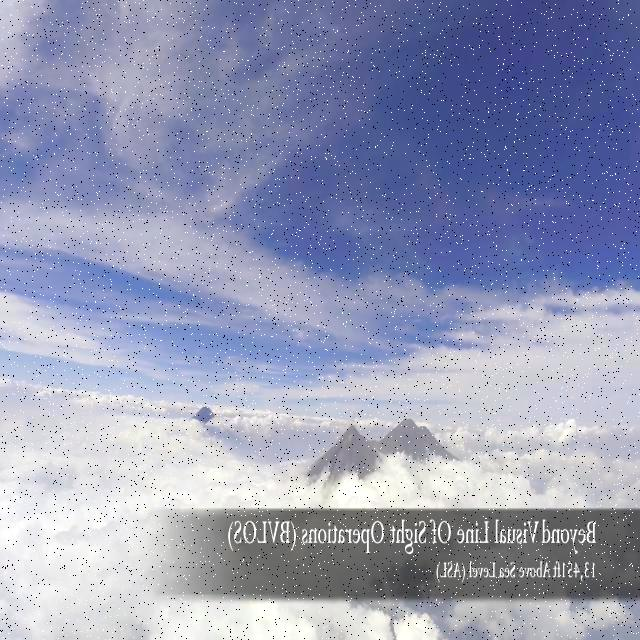Plume: (346, 403, 358, 426)
Summit: (328, 427, 373, 447)
